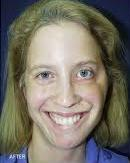strokeEyeWeak: (32, 62, 101, 86)
strokeMouthWeak: (41, 107, 91, 132)
